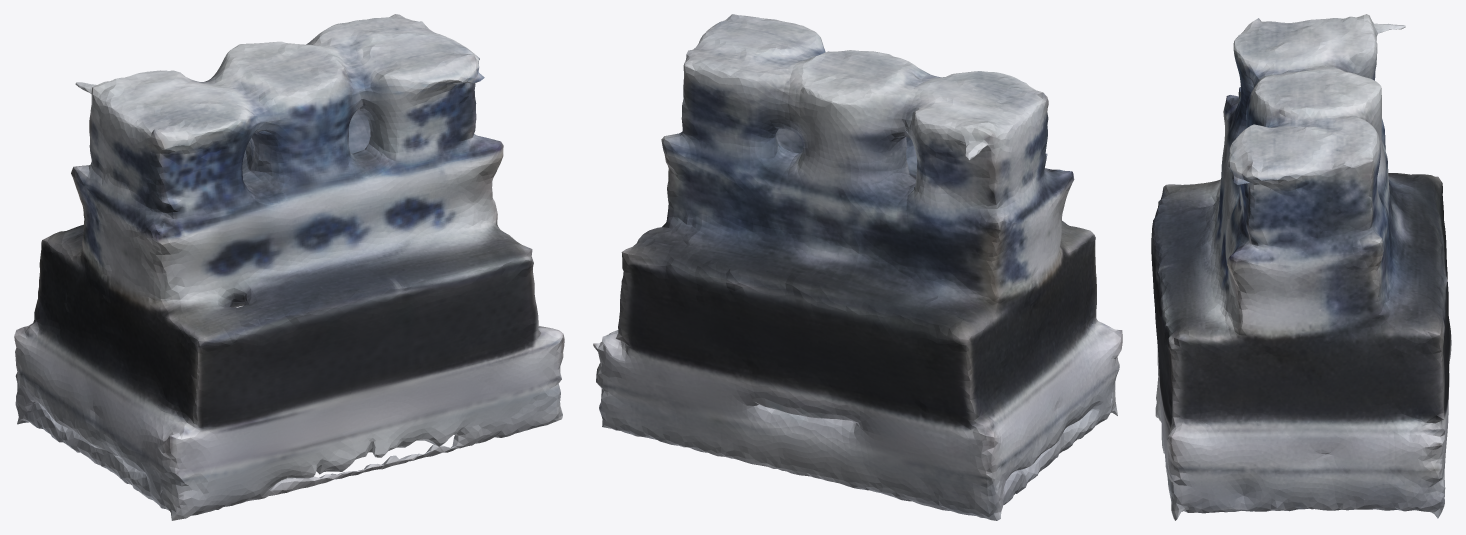
File: three_small_cup.glb
3 renders of one model, left to right at view 1: azimuth 30°, elevation 25°; view 2: azimuth 150°, elevation 25°; view 3: azimuth 270°, elevation 25°, orthographic. The views are drawn at different scales.
Size of the model in its own units: 0.6962 by 0.5797 by 0.4561.
1 material, 1 textured.
